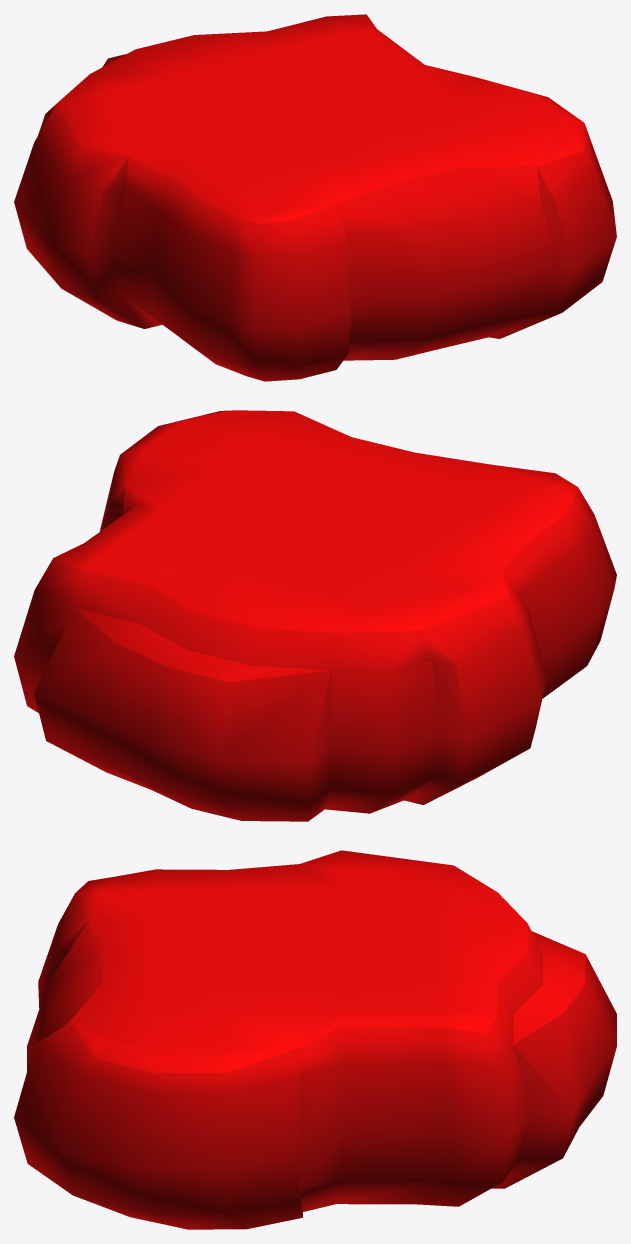
File: geology-landforms-icefloe_v1.fbx
3 renders of one model, top to bottom at view 1: azimuth 30°, elevation 25°; view 2: azimuth 150°, elevation 25°; view 3: azimuth 270°, elevation 25°, orthographic. The views are drawn at different scales.
Visible parts, largest first — view 1: IceFloe_v1; view 2: IceFloe_v1; view 3: IceFloe_v1.
Part boxes in pixels (x1,y1,x2,y2): IceFloe_v1: (14, 14, 616, 381); IceFloe_v1: (14, 410, 616, 821); IceFloe_v1: (14, 850, 616, 1229).
Bounding box in the file's own units: 4.27 × 1.58 × 4.55.
